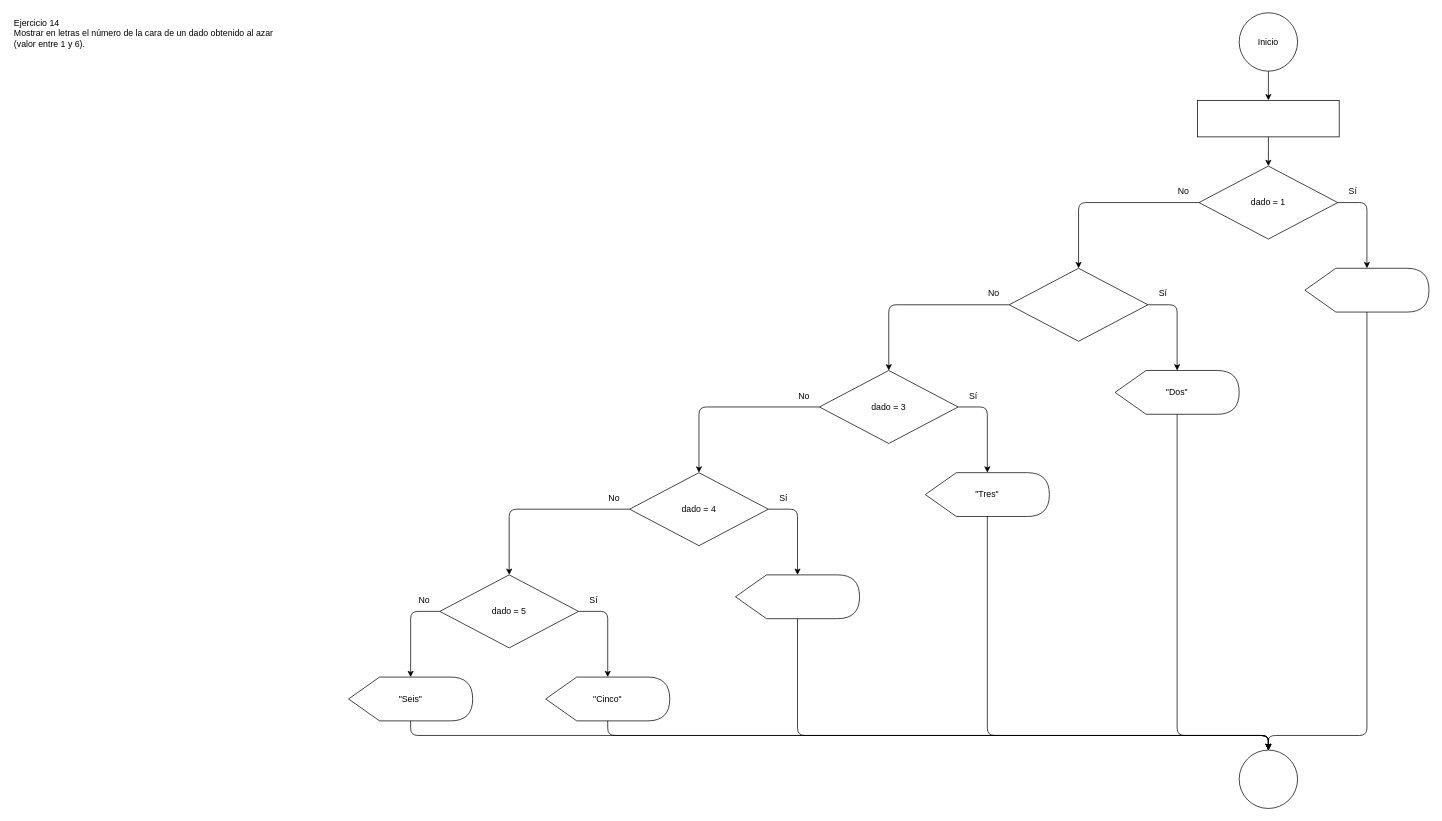
The diagram is 1442 pixels wide and 821 high, and some of its shapes have lost their labels. The centre of each missing label's shape, as x and y in pixels:
"Cuatro": (x=797, y=596)
"Uno": (x=1366, y=290)
dado = 2: (x=1078, y=304)
dado ← Aleatorio(1, 6): (x=1268, y=118)
Fin: (x=1268, y=778)
